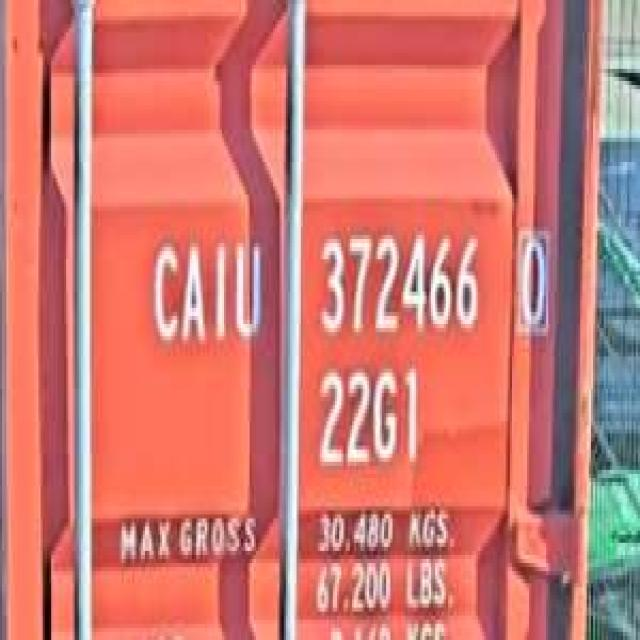dv: (512, 219, 553, 332)
owner: (145, 223, 267, 360)
serial: (312, 219, 486, 344)
size: (312, 360, 424, 478)
